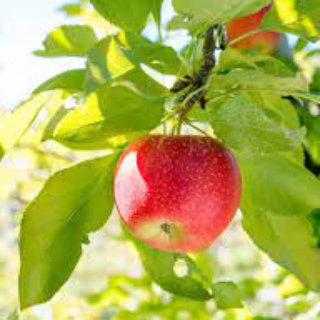tao: (108, 126, 246, 257)
